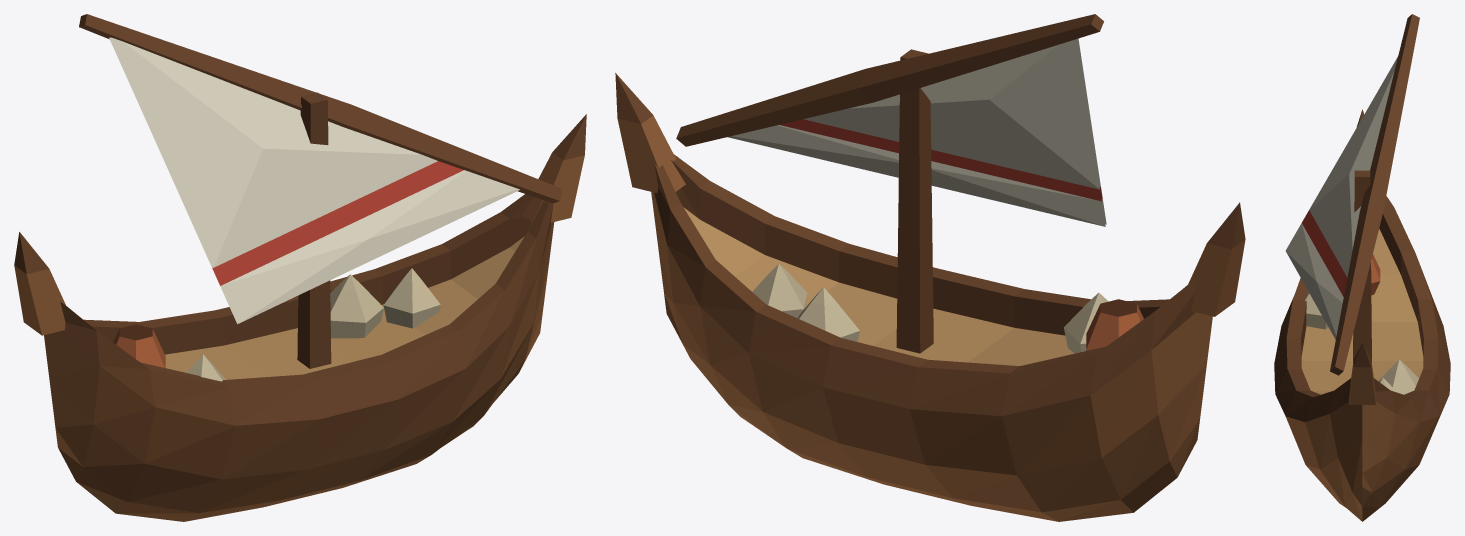
The model's file is dhow.glb.
3 renders of one model, left to right at view 1: azimuth 30°, elevation 25°; view 2: azimuth 150°, elevation 25°; view 3: azimuth 270°, elevation 25°, orthographic. The views are drawn at different scales.
Parts seen in each view (by area): view 1: dhow; view 2: dhow; view 3: dhow.
Part boxes in pixels (left/top/right/bottom): dhow: left=14, top=14, right=586, bottom=521; dhow: left=615, top=14, right=1245, bottom=521; dhow: left=1274, top=14, right=1450, bottom=521.
Bounding box in the file's own units: 1 × 0.8511 × 0.344.
